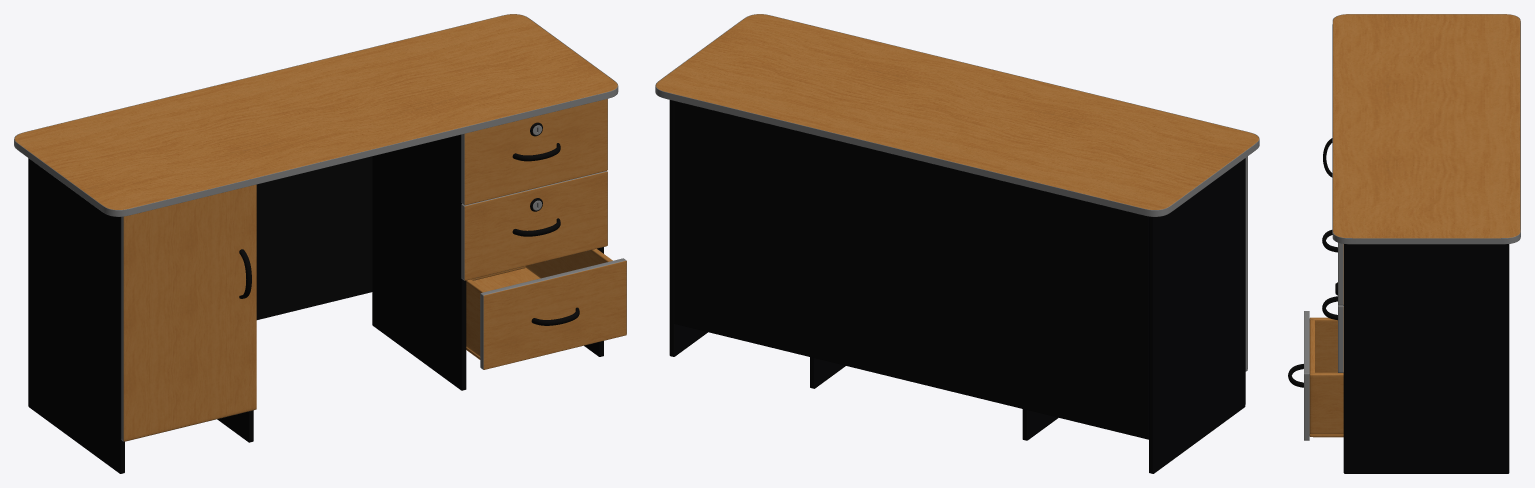
The picture shows the model from 3 angles, left to right: view 1: azimuth 30°, elevation 25°; view 2: azimuth 150°, elevation 25°; view 3: azimuth 270°, elevation 25°; orthographic projection. The views are drawn at different scales.
Visible parts, largest first — view 1: Office_Table_Desk; view 2: Office_Table_Desk; view 3: Office_Table_Desk.
Part boxes in pixels (x1,y1,x2,y2): Office_Table_Desk: (14,14,626,473); Office_Table_Desk: (655,14,1259,473); Office_Table_Desk: (1288,14,1520,473).
Size of the model in its own units: 1.81 by 0.9124 by 0.7956.
6 materials, 2 textured.
